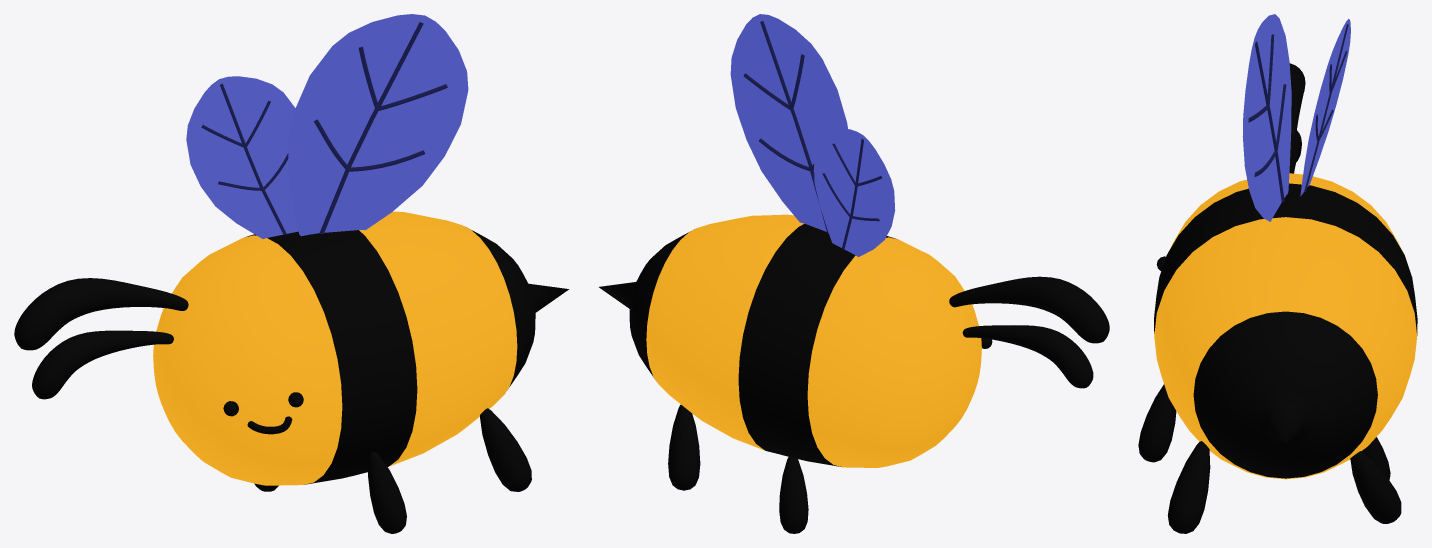
Rendered from Bee.fbx.
3 renders of one model, left to right at view 1: azimuth 30°, elevation 25°; view 2: azimuth 150°, elevation 25°; view 3: azimuth 270°, elevation 25°, orthographic. The views are drawn at different scales.
Visible parts, largest first — view 1: Sphere001, Plane001, Plane002, Line001, Line002, Shape001, Sphere004, Sphere002, Shape002; view 2: Sphere001, Plane001, Plane002, Line001, Line002, Sphere005, Sphere003, Shape001, Shape002; view 3: Sphere001, Plane001, Sphere004, Plane002, Sphere005, Sphere002, Shape001, Line001, Shape002, Sphere003.
Part boxes in pixels (x1,y1,x2,y2): Sphere001: (153, 211, 569, 485); Plane001: (288, 14, 468, 236); Plane002: (186, 76, 298, 238); Line001: (14, 278, 188, 350); Line002: (32, 330, 173, 399); Shape001: (314, 22, 447, 234); Sphere004: (480, 408, 531, 491); Sphere002: (368, 451, 406, 533); Shape002: (201, 83, 288, 234); Sphere001: (599, 214, 981, 467); Plane001: (730, 14, 847, 231); Plane002: (814, 128, 895, 256); Line001: (949, 276, 1109, 343); Line002: (962, 325, 1093, 388); Sphere005: (668, 404, 700, 490); Sphere003: (779, 456, 808, 533); Shape001: (743, 21, 828, 233); Shape002: (822, 138, 882, 249); Sphere001: (1154, 173, 1417, 479); Plane001: (1242, 14, 1291, 221); Sphere004: (1167, 441, 1210, 533); Plane002: (1300, 19, 1350, 196); Sphere005: (1350, 451, 1401, 523); Sphere002: (1138, 384, 1176, 462); Shape001: (1248, 34, 1286, 202); Line001: (1289, 63, 1305, 173); Shape002: (1304, 24, 1348, 191); Sphere003: (1361, 437, 1390, 479).
Size of the model in its own units: 197 by 170 by 85.51.
